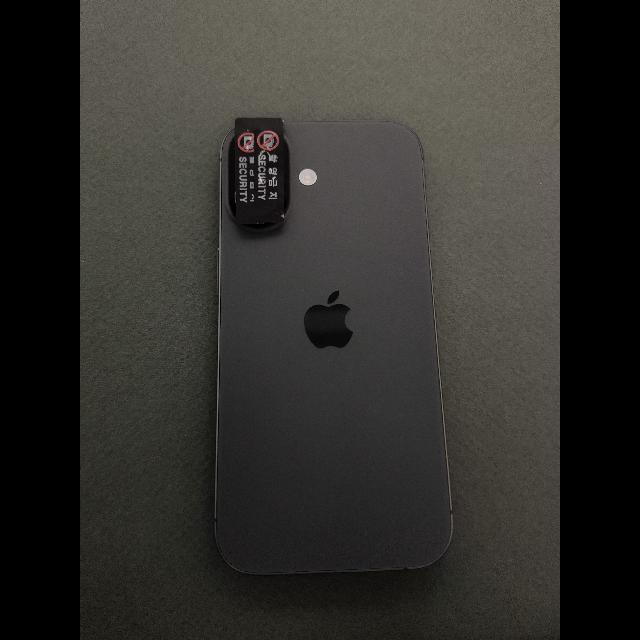phone: (214, 123, 454, 576)
sticker: (235, 118, 284, 226)
